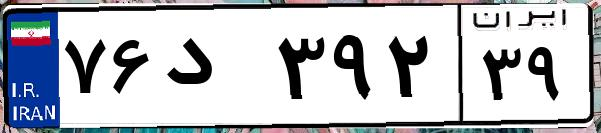2: (385, 28, 445, 110)
3: (270, 28, 330, 110), (475, 38, 525, 113)
6: (110, 28, 158, 98)
7: (57, 26, 110, 100)
9: (330, 28, 385, 110), (525, 38, 570, 115)
د: (158, 20, 270, 120)
